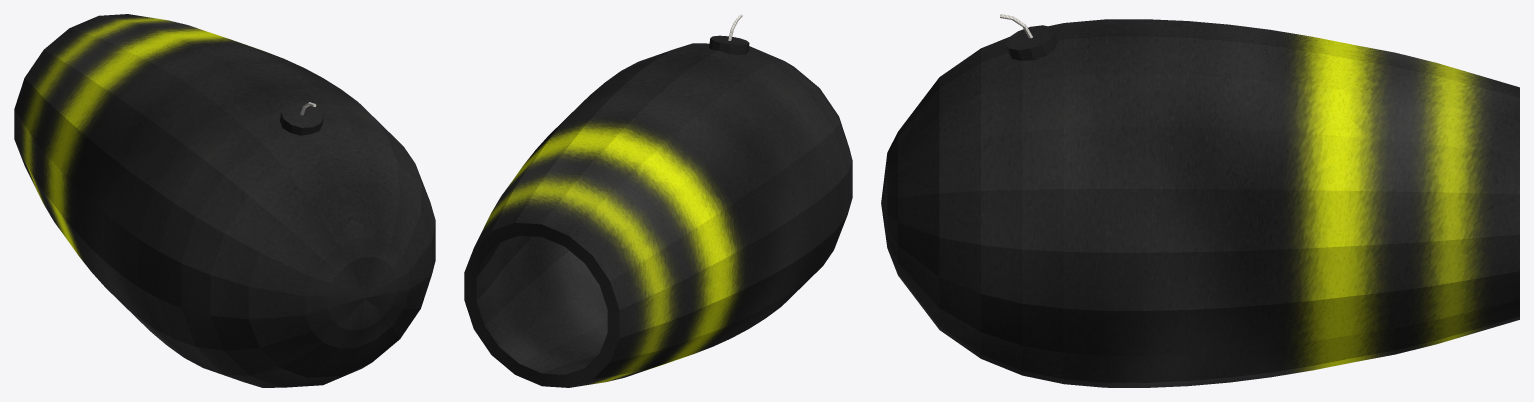
Rendered from cannon_detail.fbx.
3 views of the same model, side by side, from view 1: azimuth 30°, elevation 25°; view 2: azimuth 150°, elevation 25°; view 3: azimuth 270°, elevation 25° (orthographic). The views are drawn at different scales.
Visible parts, largest first — view 1: Outside0, FuseBaseTop0, FuseBase0; view 2: Outside0, Inside0, Front0, FuseBase0; view 3: Outside0, FuseBaseTop0, FuseBase0.
Part boxes in pixels (bbox=[...]): Outside0: bbox=[14, 14, 435, 387]; FuseBaseTop0: bbox=[281, 101, 323, 127]; FuseBase0: bbox=[280, 112, 323, 135]; Outside0: bbox=[474, 43, 852, 387]; Inside0: bbox=[476, 235, 607, 374]; Front0: bbox=[464, 222, 619, 387]; FuseBase0: bbox=[709, 38, 749, 55]; Outside0: bbox=[881, 19, 1519, 387]; FuseBaseTop0: bbox=[1005, 25, 1055, 49]; FuseBase0: bbox=[1005, 32, 1057, 60].
Bounding box in the file's own units: 0.8847 × 0.94 × 1.53.
Materials: 3 (3 with a texture image).
